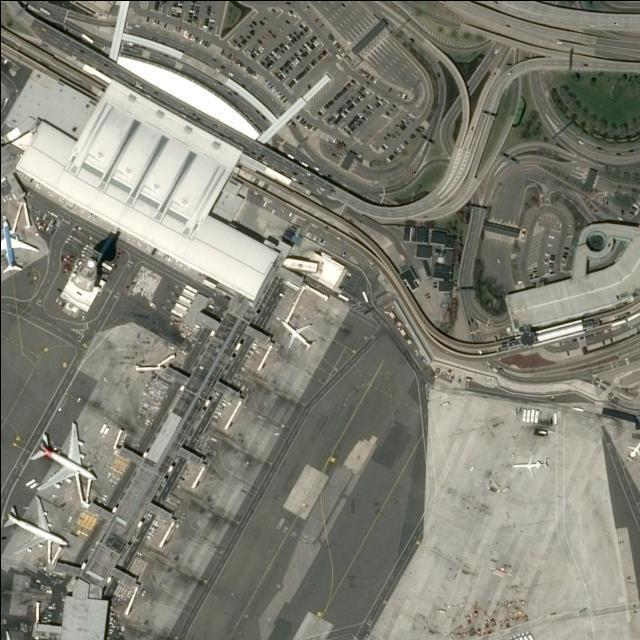Aircraft: (27, 417, 101, 491), (0, 491, 70, 556), (0, 213, 42, 273), (278, 315, 319, 349), (510, 449, 550, 477), (1, 624, 35, 640), (626, 436, 640, 460)
